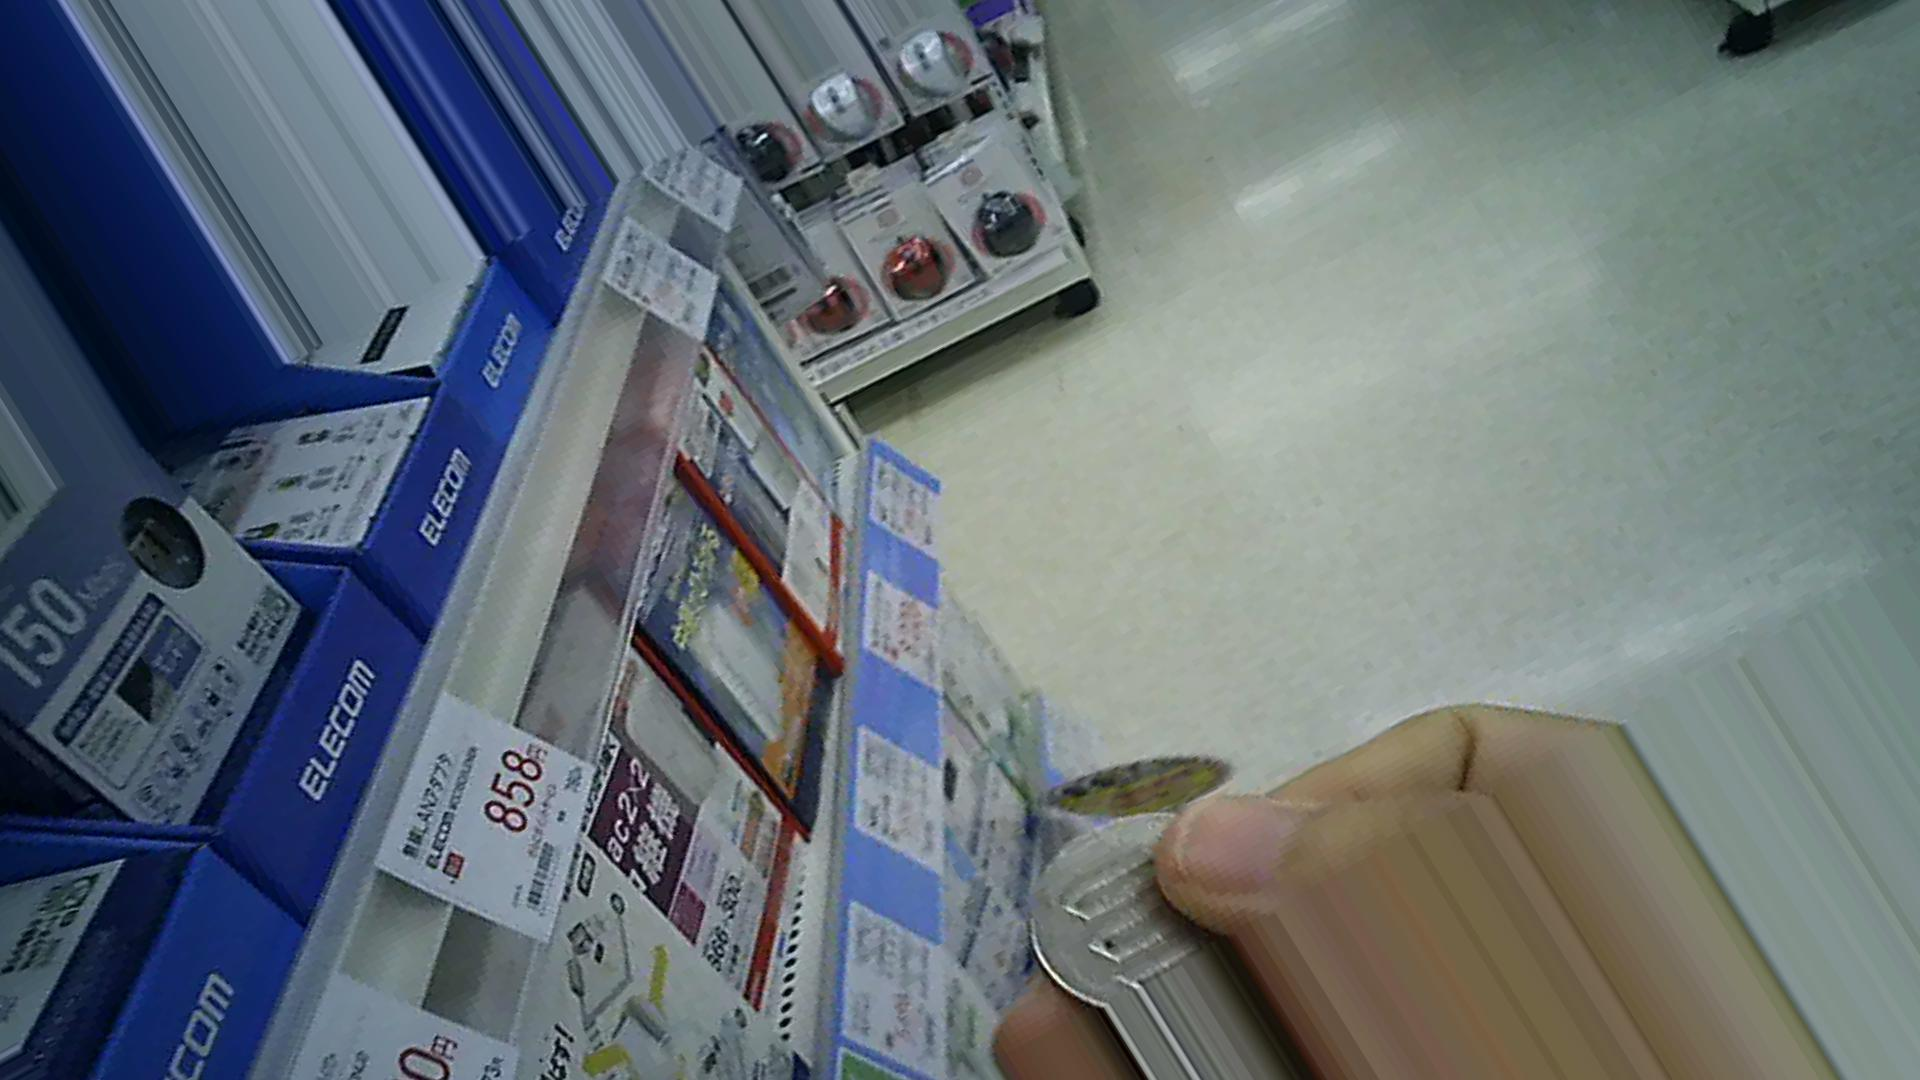100 Yen: (1027, 808, 1251, 1011)
